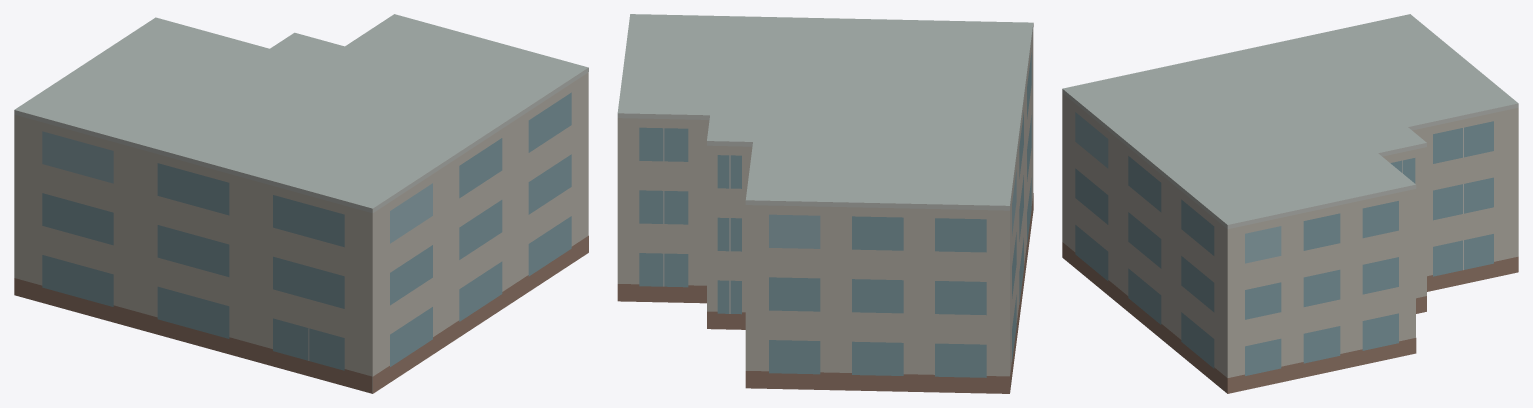
File: survey-upis-32836058.glb
3 renders of one model, left to right at view 1: azimuth 30°, elevation 25°; view 2: azimuth 150°, elevation 25°; view 3: azimuth 270°, elevation 25°, orthographic. The views are drawn at different scales.
Parts seen in each view (by area): view 1: survey-upis-32836058.tmp; view 2: survey-upis-32836058.tmp; view 3: survey-upis-32836058.tmp.
Boxes of the visible parts, left/top/right/bottom form: survey-upis-32836058.tmp: left=14, top=14, right=588, bottom=393; survey-upis-32836058.tmp: left=617, top=14, right=1033, bottom=393; survey-upis-32836058.tmp: left=1062, top=14, right=1518, bottom=393.
Size of the model in its own units: 26 by 9.7 by 23.76.
